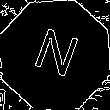N_S: (28, 25, 82, 85)
